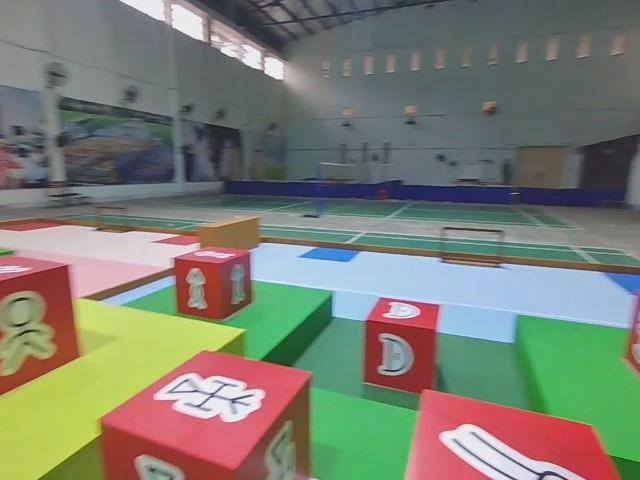R2 Real: (101, 349, 312, 480), (0, 254, 78, 397), (364, 297, 439, 392), (173, 248, 252, 322)
